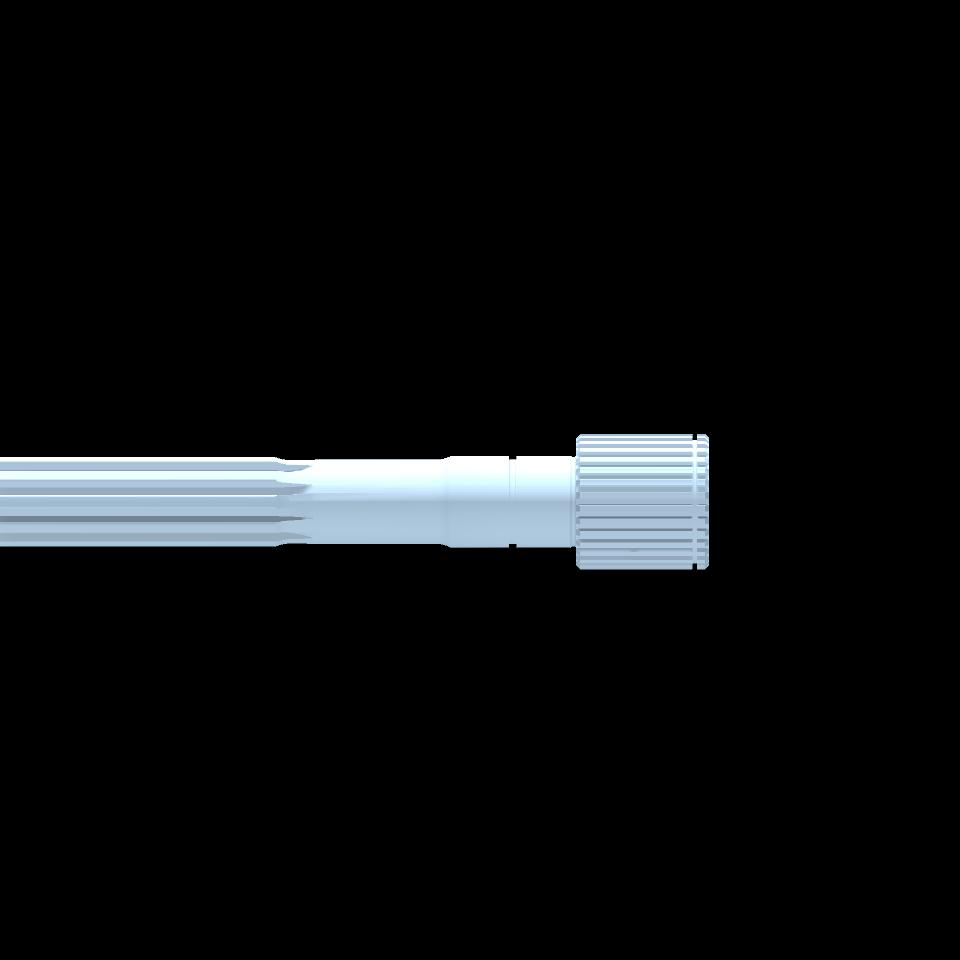Straight: (1, 458, 275, 547), (581, 433, 690, 569), (697, 434, 705, 570)
